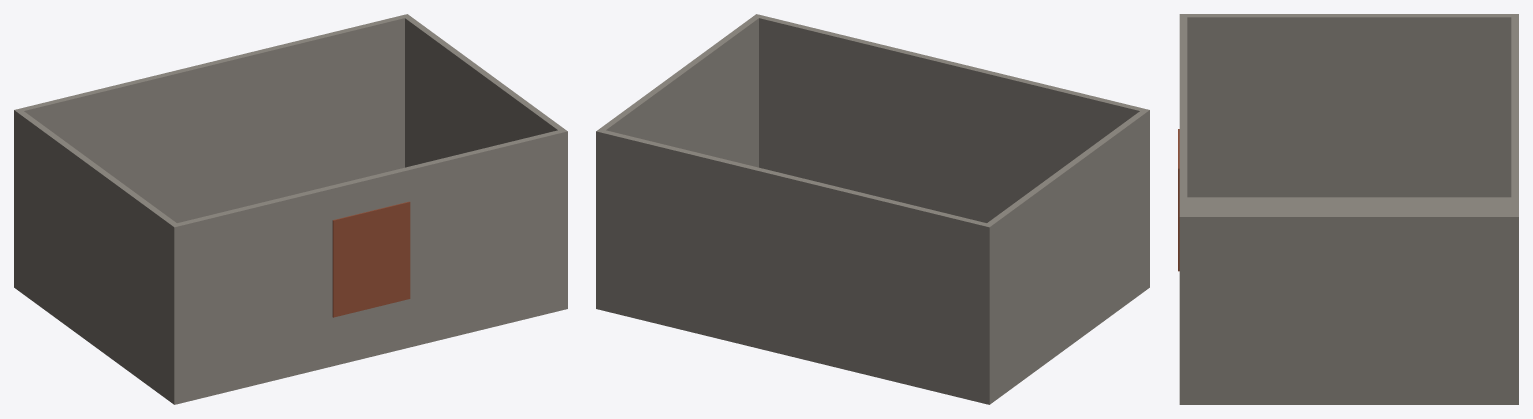
File: shipping_carton_body.glb
3 views of the same model, side by side, from view 1: azimuth 30°, elevation 25°; view 2: azimuth 150°, elevation 25°; view 3: azimuth 270°, elevation 25° (orthographic). The views are drawn at different scales.
Parts seen in each view (by area): view 1: shipping_carton_body_plastic, shipping_carton_body_accent; view 2: shipping_carton_body_plastic; view 3: shipping_carton_body_plastic.
Boxes of the visible parts, x1,y1,x2,y2 form: shipping_carton_body_plastic: (14, 14, 567, 404); shipping_carton_body_accent: (332, 201, 410, 317); shipping_carton_body_plastic: (596, 14, 1149, 404); shipping_carton_body_plastic: (1179, 14, 1518, 404).
Size of the model in its own units: 0.255 by 0.11 by 0.1808.
